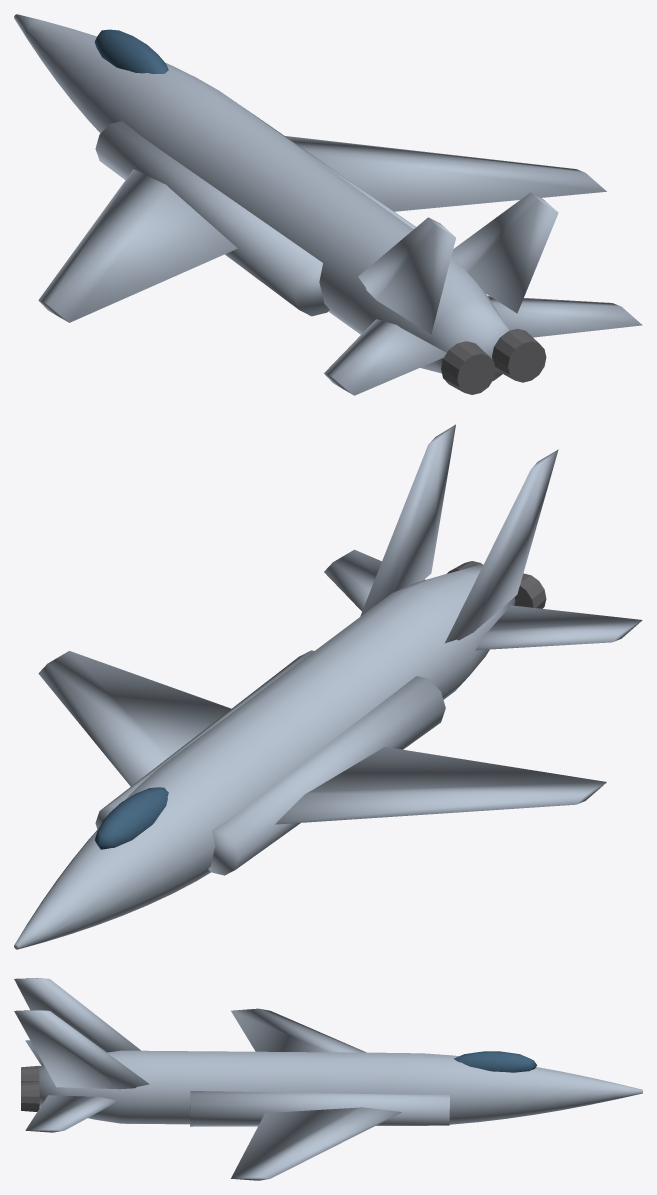
File: mig29.fbx
3 renders of one model, top to bottom at view 1: azimuth 30°, elevation 25°; view 2: azimuth 150°, elevation 25°; view 3: azimuth 270°, elevation 25°, orthographic. The views are drawn at different scales.
Visible parts, largest first — view 1: Body, Detail, Canopy; view 2: Body, Canopy, Detail; view 3: Body, Canopy, Detail.
Part boxes in pixels (x1,y1,x2,y2): Body: [14, 14, 642, 395]; Detail: [441, 328, 546, 394]; Canopy: [94, 29, 168, 73]; Body: [14, 424, 642, 949]; Canopy: [94, 787, 168, 849]; Detail: [447, 561, 546, 608]; Body: [14, 978, 642, 1180]; Canopy: [454, 1051, 537, 1072]; Detail: [21, 1065, 39, 1111].
Bounding box in the file's own units: 1140 × 404 × 1802.
